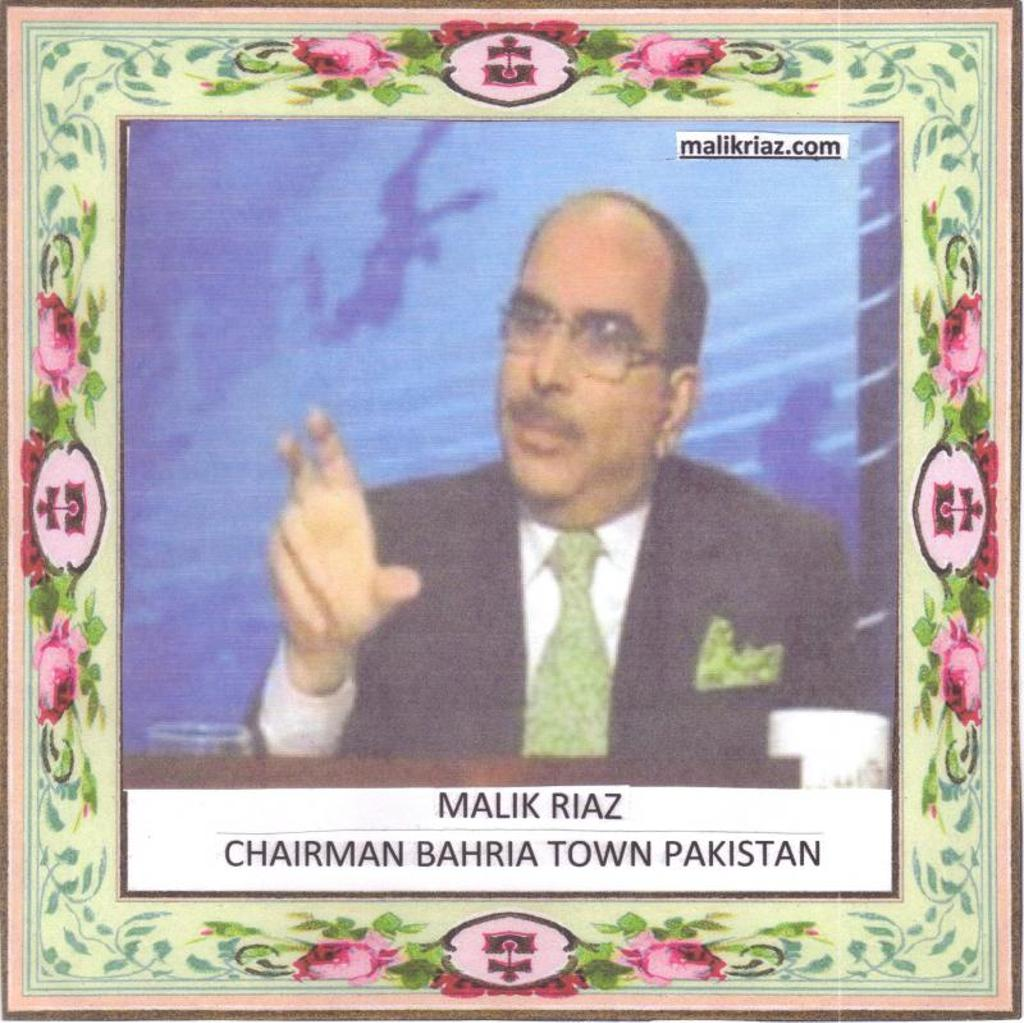face: (506, 220, 650, 504)
